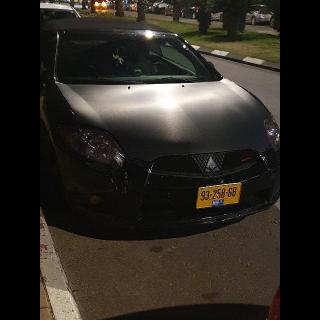LicensePlate: (196, 183, 242, 202)
